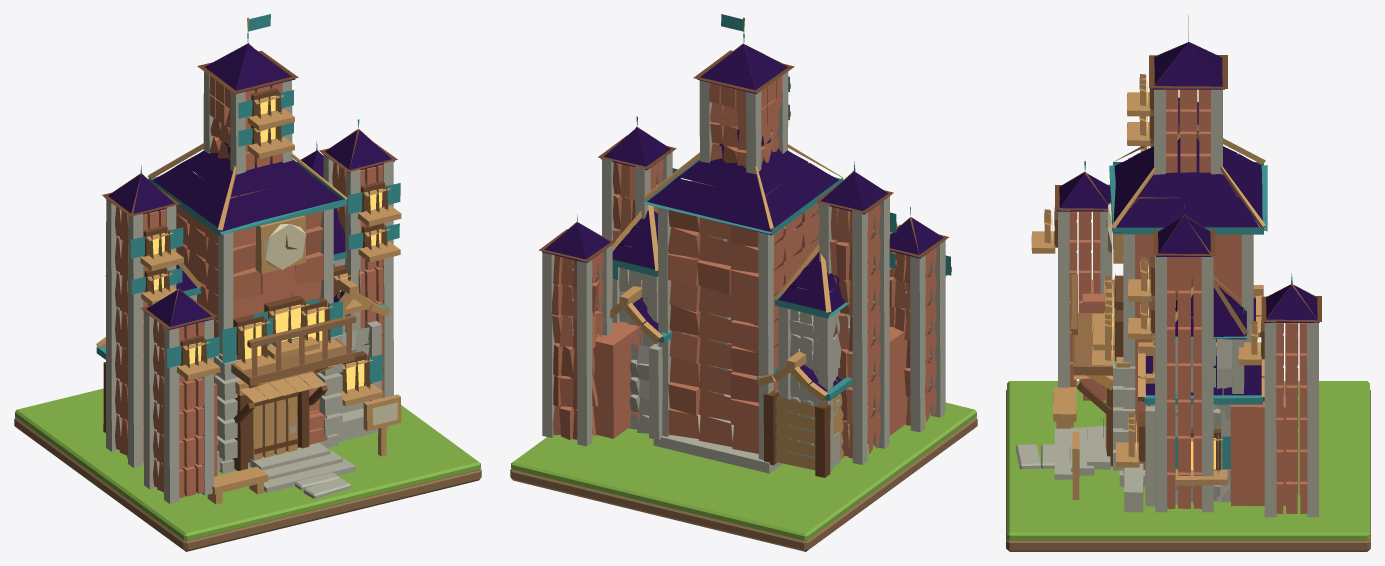
The model's file is town_hall_l14_active_LOD2.glb.
3 renders of one model, left to right at view 1: azimuth 30°, elevation 25°; view 2: azimuth 150°, elevation 25°; view 3: azimuth 270°, elevation 25°, orthographic. The views are drawn at different scales.
Visible parts, largest first — view 1: town_hall_l14_active_foundation.001, town_hall_l14_active_grass_tile.001, town_hall_l14_active_earth_tile.001, town_hall_l14_active_path_stone.005; view 2: town_hall_l14_active_foundation.001, town_hall_l14_active_grass_tile.001, town_hall_l14_active_earth_tile.001; view 3: town_hall_l14_active_foundation.001, town_hall_l14_active_grass_tile.001, town_hall_l14_active_earth_tile.001, town_hall_l14_active_path_stone.005.
Boxes of the visible parts, left/top/right/bottom form: town_hall_l14_active_foundation.001: left=96, top=14, right=401, bottom=504; town_hall_l14_active_grass_tile.001: left=15, top=388, right=480, bottom=541; town_hall_l14_active_earth_tile.001: left=14, top=417, right=481, bottom=551; town_hall_l14_active_path_stone.005: left=303, top=478, right=350, bottom=498; town_hall_l14_active_foundation.001: left=538, top=14, right=951, bottom=477; town_hall_l14_active_grass_tile.001: left=511, top=402, right=976, bottom=541; town_hall_l14_active_earth_tile.001: left=510, top=417, right=977, bottom=551; town_hall_l14_active_foundation.001: left=1031, top=15, right=1321, bottom=517; town_hall_l14_active_grass_tile.001: left=1007, top=381, right=1369, bottom=540; town_hall_l14_active_earth_tile.001: left=1006, top=390, right=1370, bottom=551; town_hall_l14_active_path_stone.005: left=1015, top=444, right=1040, bottom=469.
Bounding box in the file's own units: 3.6 × 5.03 × 3.6.
